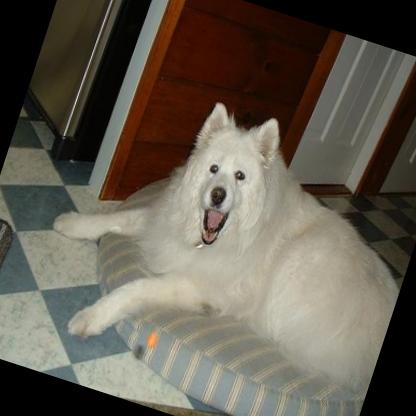Samoyed: (23, 63, 416, 416)
